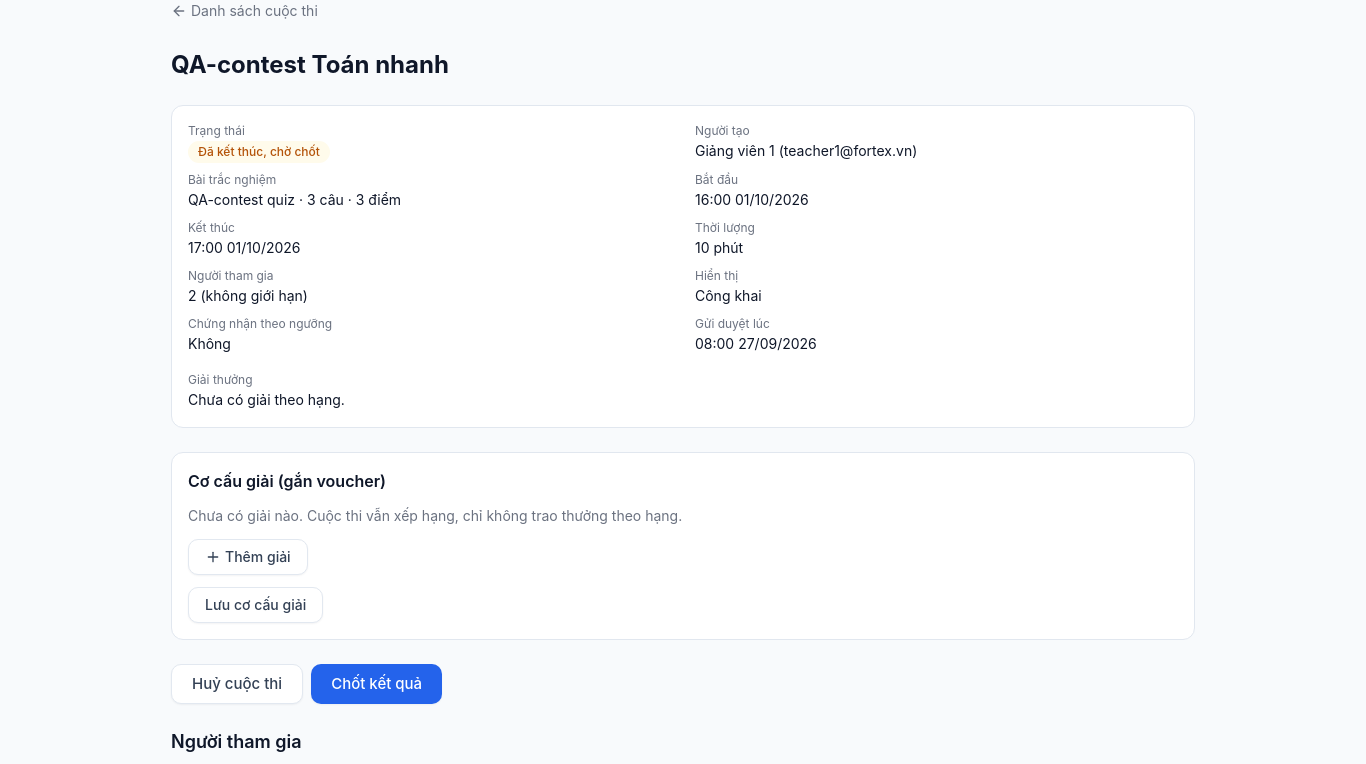
Scenario: /admin/contests/[id] › chốt lỗi voucher (409 + details): alert cố định nêu người thắng, hạng, voucher, lý do, có link sửa giải
Click the button with test id "finalize-contest" at (377, 684), box [311,664,442,704]
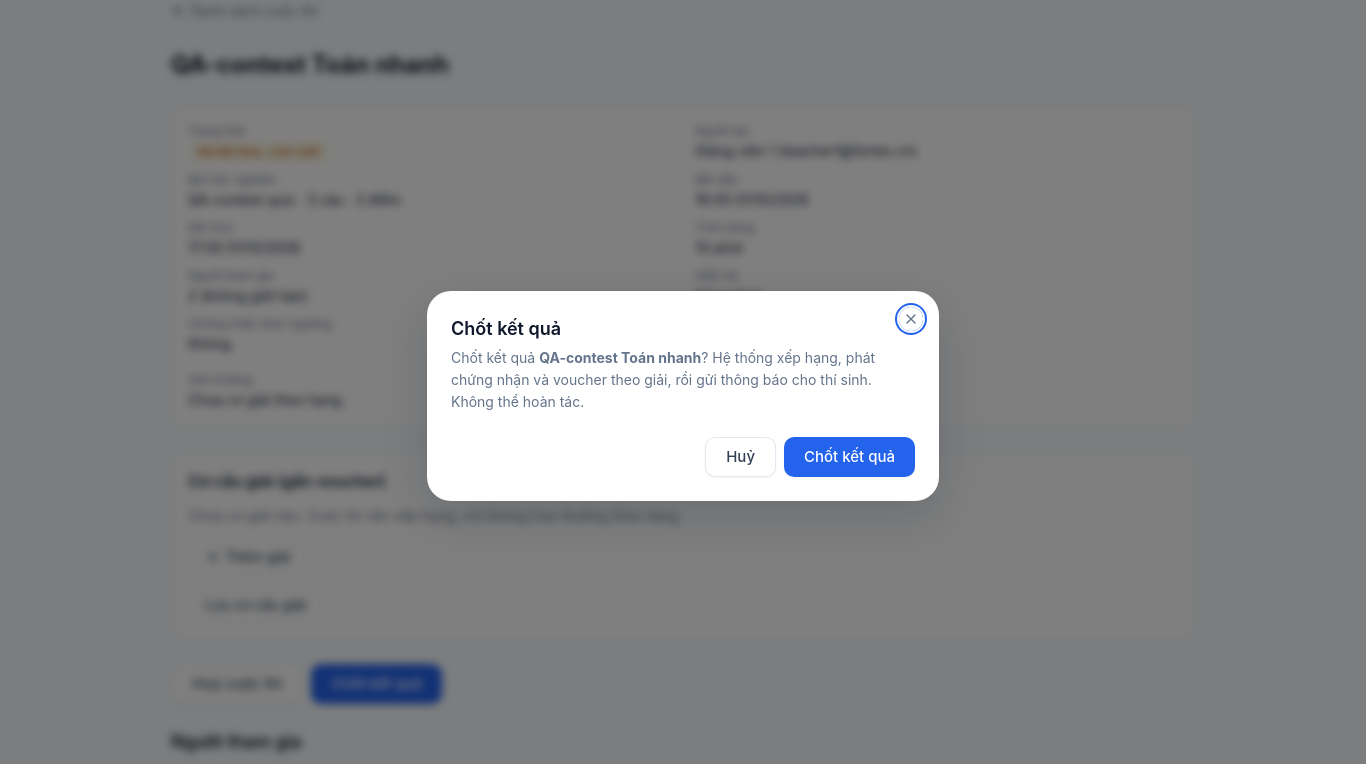
Click the button with test id "approve-confirm" at (850, 457), box [784,437,915,477]
Wait 60000 ms
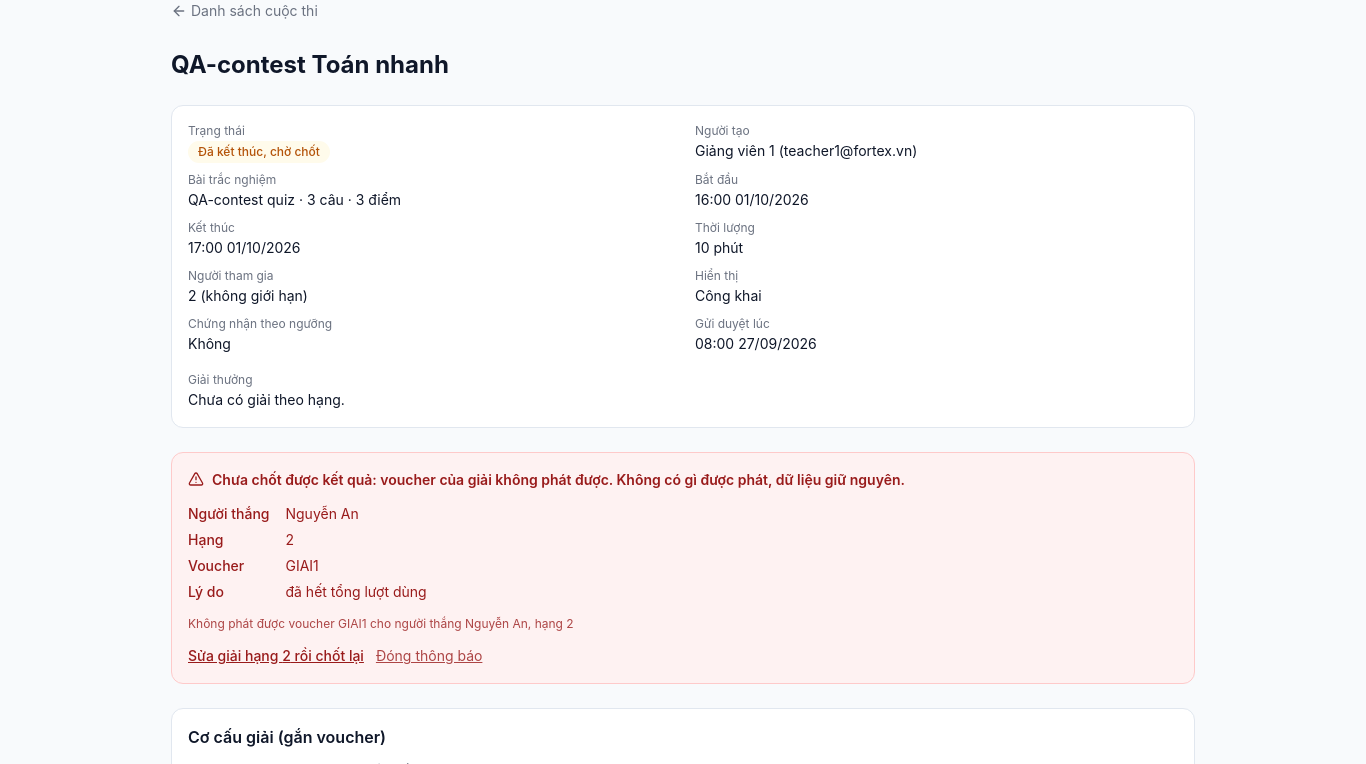
Result: the text with test id "grant-user" reads "Nguyễn An" at [286,505,359,522]
Result: the text with test id "grant-rank" reads "2" at [286,531,294,548]
Result: the text with test id "grant-voucher" reads "GIAI1" at [286,557,319,574]
